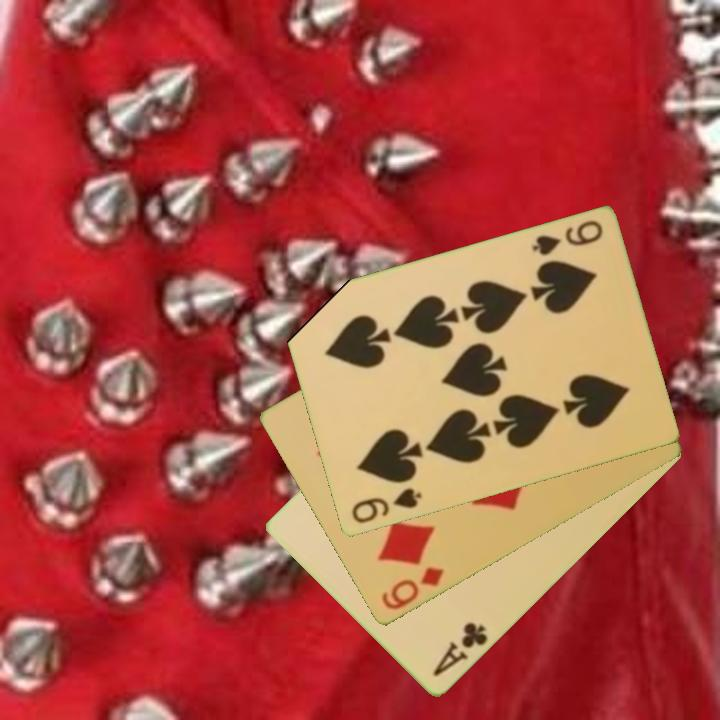6d: (378, 564, 447, 614)
9s: (528, 217, 606, 259), (347, 485, 424, 527)
Ac: (429, 619, 491, 681)
